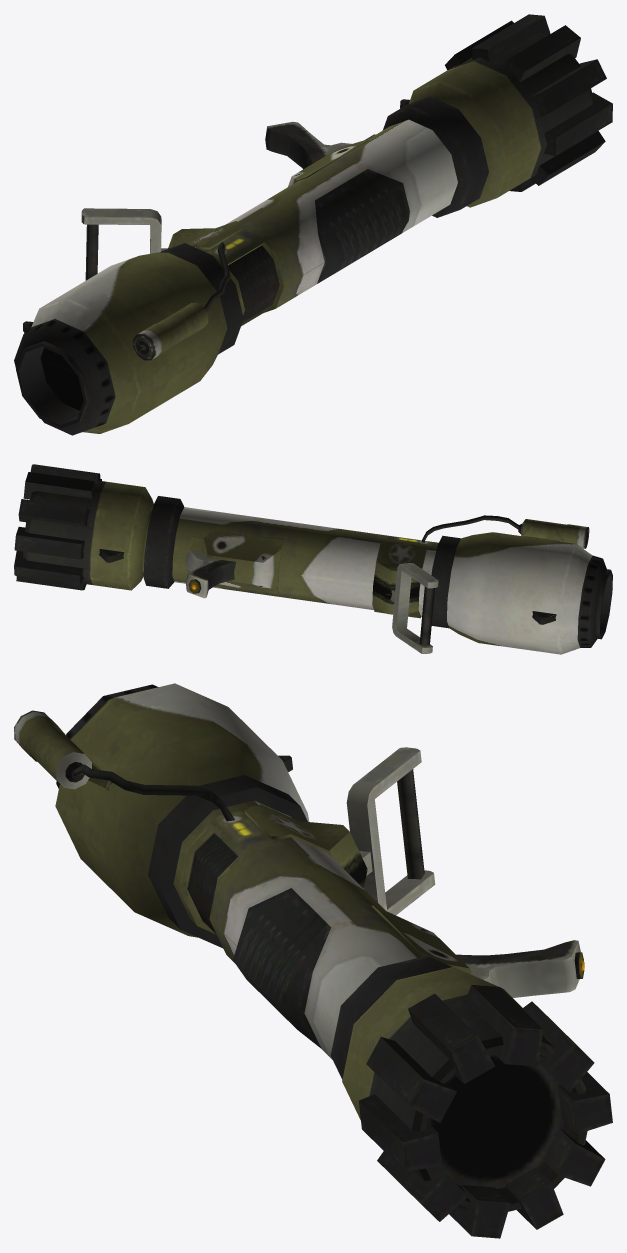
File: whitestarheavy_rocket_launcher.glb
The picture shows the model from 3 angles, top to bottom: view 1: azimuth 30°, elevation 25°; view 2: azimuth 150°, elevation 25°; view 3: azimuth 270°, elevation 25°; orthographic projection. The views are drawn at different scales.
Parts seen in each view (by area): view 1: weapons/whitestarheavy_rocket_launcher_0; view 2: weapons/whitestarheavy_rocket_launcher_0; view 3: weapons/whitestarheavy_rocket_launcher_0.
Part boxes in pixels (left/top/right/bottom): weapons/whitestarheavy_rocket_launcher_0: left=14, top=14, right=612, bottom=435; weapons/whitestarheavy_rocket_launcher_0: left=14, top=464, right=612, bottom=654; weapons/whitestarheavy_rocket_launcher_0: left=14, top=683, right=612, bottom=1238.
Bounding box in the file's own units: 2 × 0.5159 × 1.08.
Materials: 1 (1 with a texture image).
